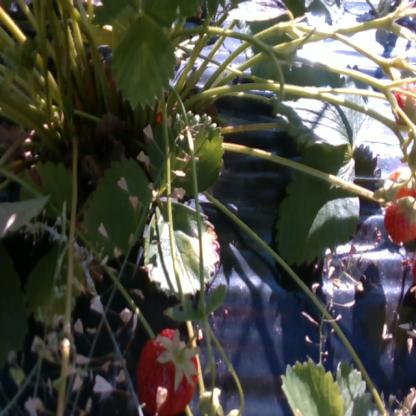ripe: (131, 320, 202, 416), (381, 186, 416, 250), (391, 68, 416, 122)
